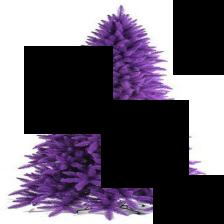purple: (8, 6, 214, 220)
